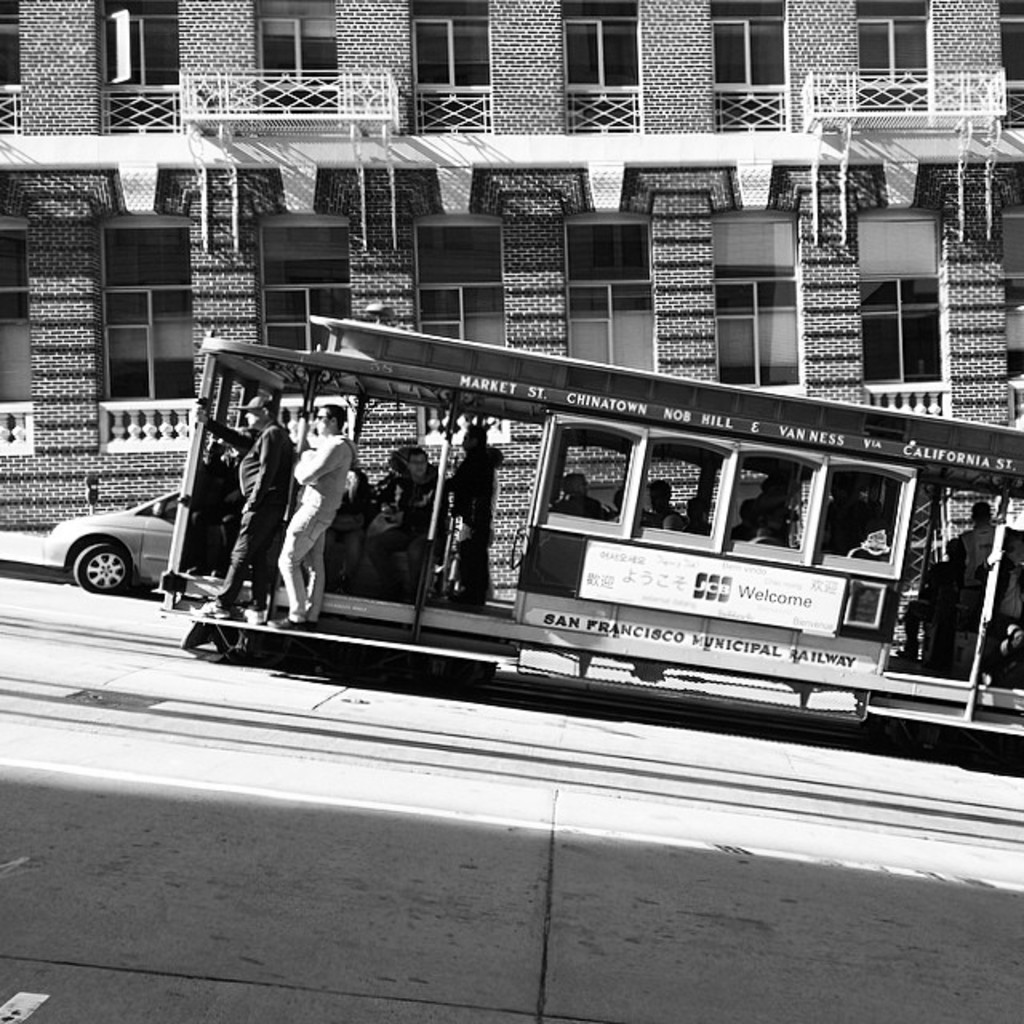Car: (17, 468, 203, 619)
